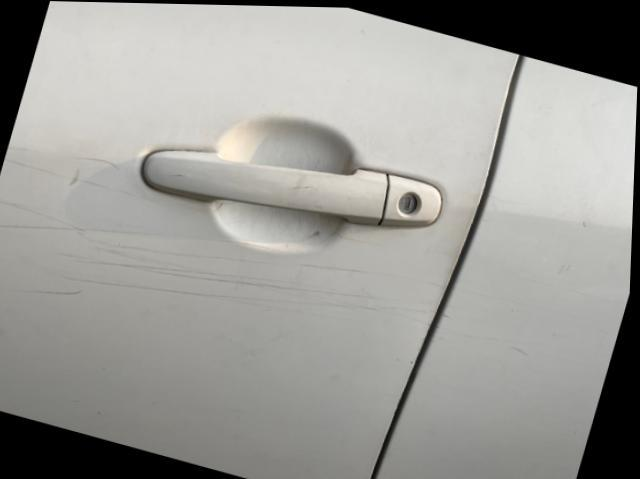scratch: (0, 135, 403, 306)
